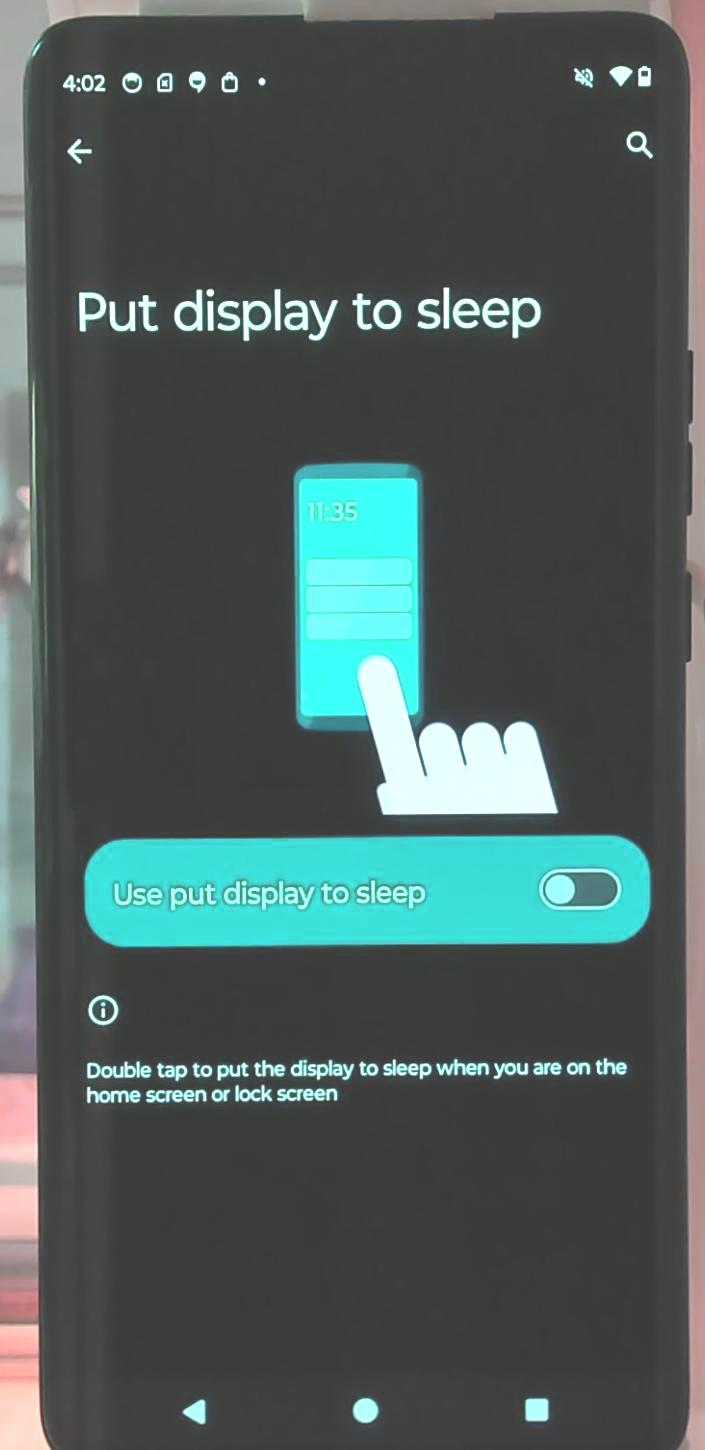Checkbox: (98, 853, 634, 917)
